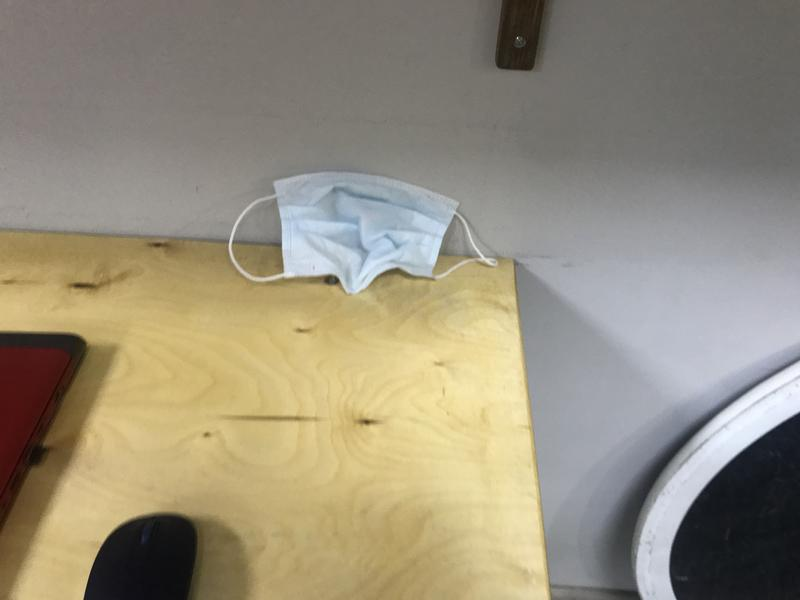medical_mask: (228, 172, 497, 294)
